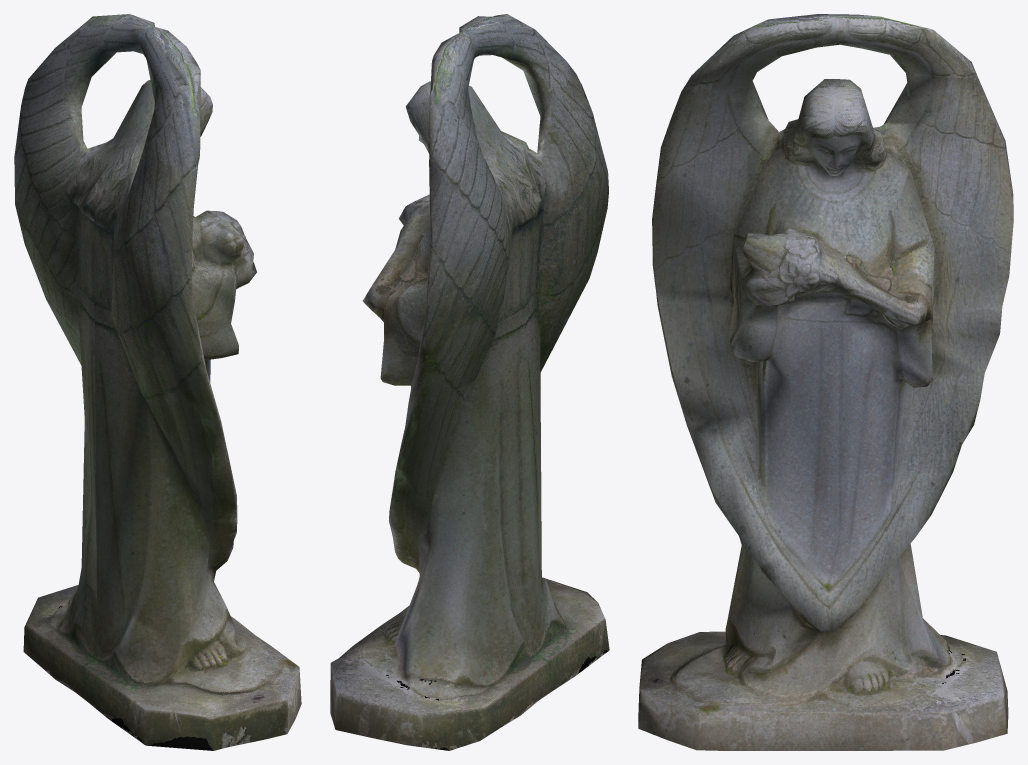
The model's file is hp_statue.glb.
3 renders of one model, left to right at view 1: azimuth 30°, elevation 25°; view 2: azimuth 150°, elevation 25°; view 3: azimuth 270°, elevation 25°, orthographic. The views are drawn at different scales.
Visible parts, largest first — view 1: Object_3; view 2: Object_3; view 3: Object_3.
Boxes of the visible parts, x1=… form: Object_3: x1=14, y1=14, x2=301, y2=750; Object_3: x1=330, y1=14, x2=609, y2=750; Object_3: x1=638, y1=14, x2=1013, y2=750.
Bounding box in the file's own units: 0.5103 × 1.94 × 0.9491.
Materials: 1 (1 with a texture image).
